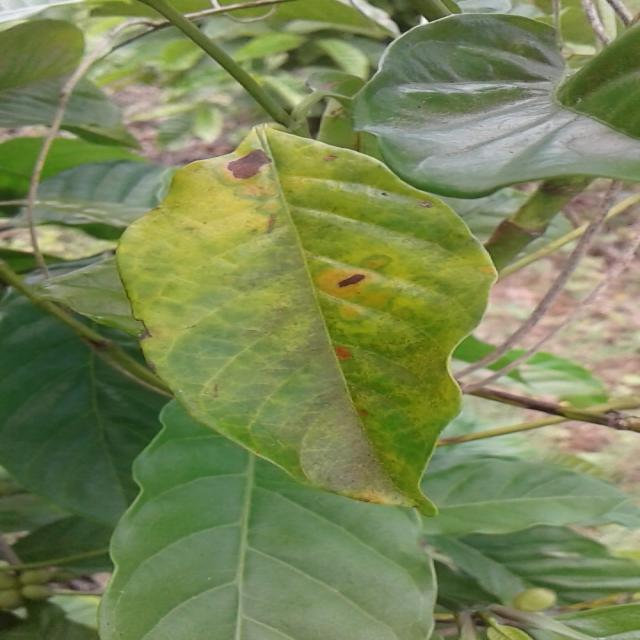Plaga-AranaRoja: (116, 124, 497, 519)
